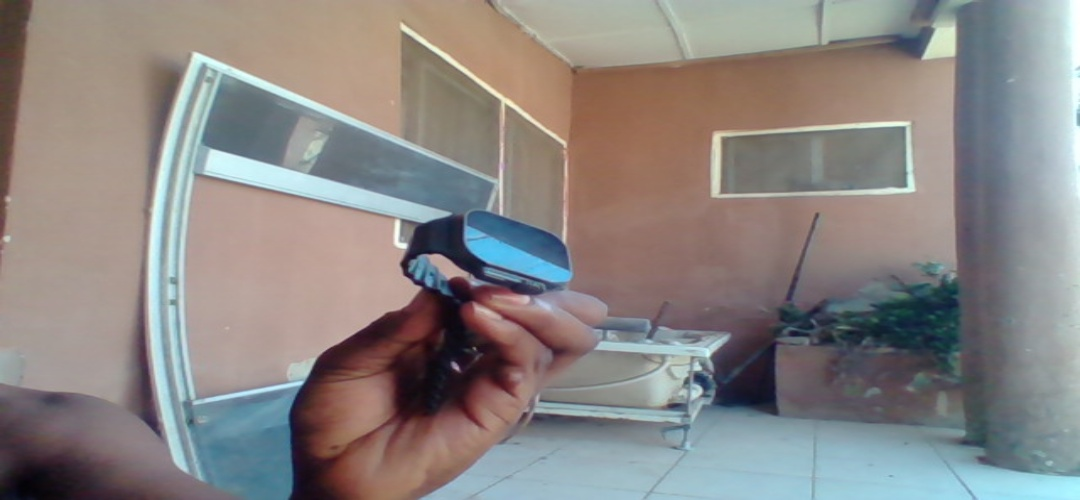smart_watch: (404, 210, 574, 294)
